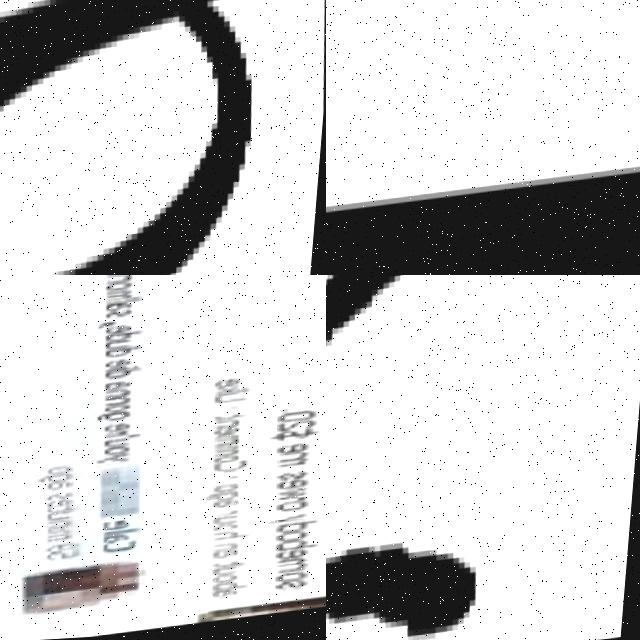0: (285, 416, 324, 430)
1: (326, 48, 640, 275)
2: (285, 425, 325, 440)
5: (55, 555, 88, 564)
9: (53, 545, 90, 556)
G: (0, 0, 302, 275)
V: (326, 275, 620, 640)
